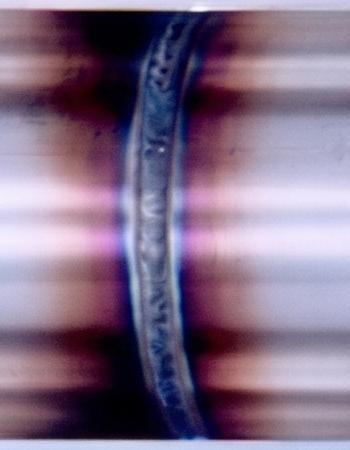soldas: (41, 3, 288, 445)
